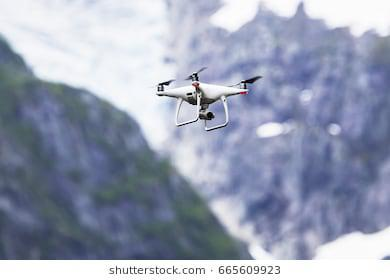drone: (149, 64, 263, 137)
